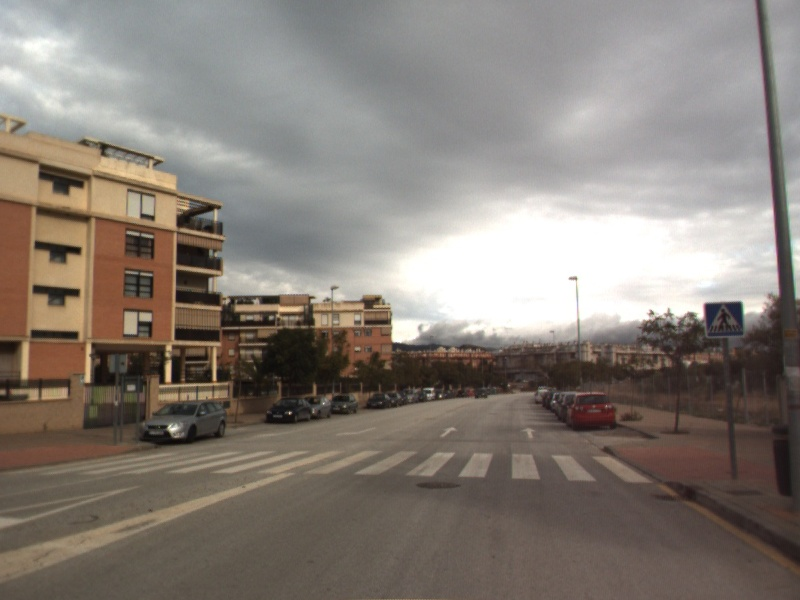STRAIGHT: (437, 425, 461, 439), (519, 425, 538, 440)
